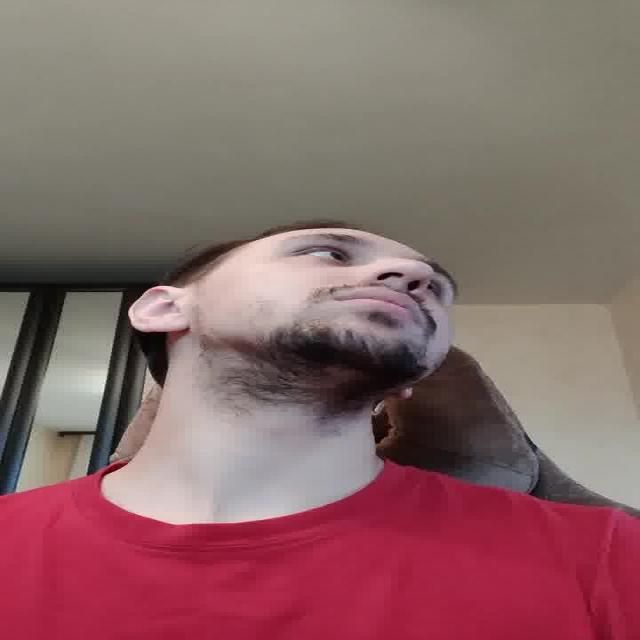earlobe: (140, 319, 192, 333), (392, 387, 416, 401)
eye: (290, 249, 352, 263), (422, 280, 444, 300)
nose: (372, 270, 422, 297)
wholeear: (127, 286, 197, 334)
